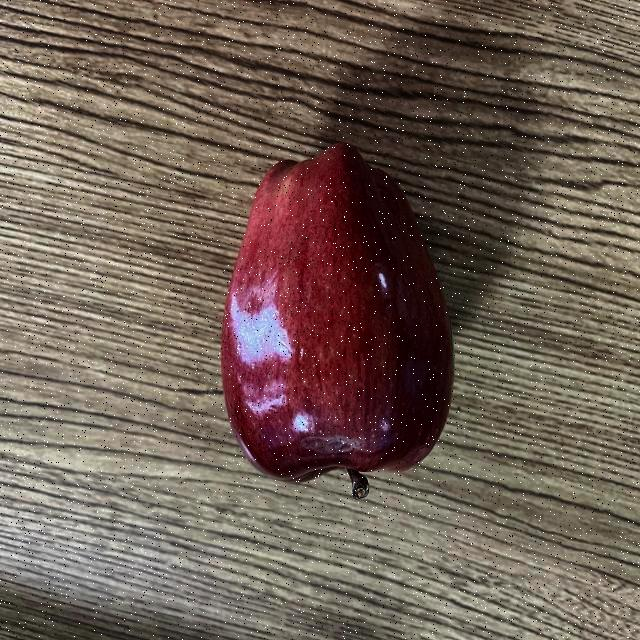Pisang: (218, 140, 471, 506)
